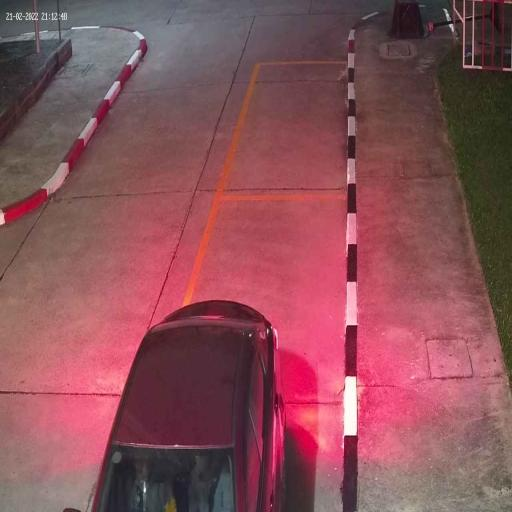car: (88, 298, 291, 512)
